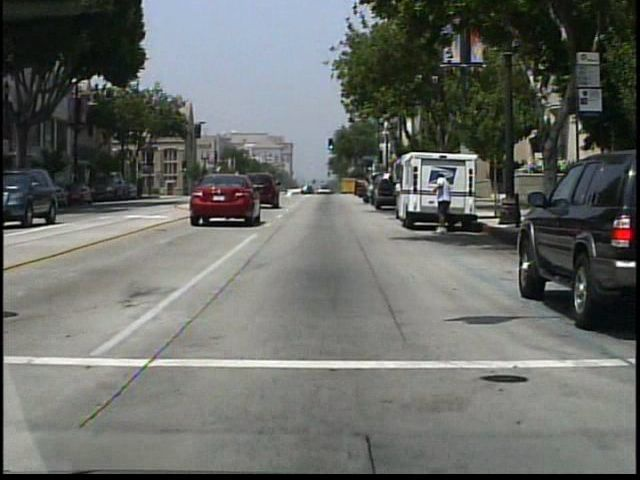person: (429, 171, 460, 236), (355, 173, 379, 210)
